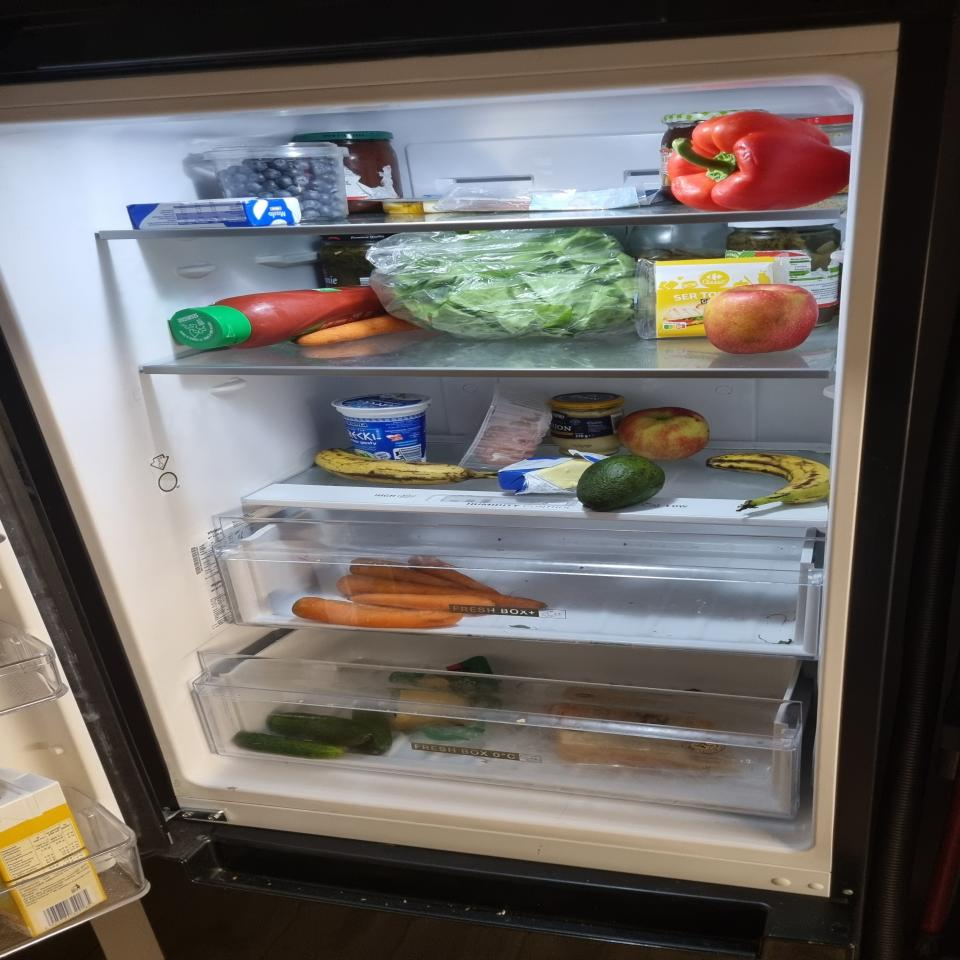Aguacate: (576, 456, 666, 508)
Carne pollo: (461, 385, 552, 471)
Leche: (1, 767, 107, 937)
Lechuga/Endivia: (368, 230, 637, 339)
Mantequilla: (127, 197, 299, 226), (498, 454, 604, 491)
Manzana: (704, 284, 815, 354), (626, 407, 714, 460)
Pepino: (235, 705, 395, 762)
Plátano: (704, 453, 830, 511), (316, 449, 496, 486)
Queso: (550, 704, 742, 774), (654, 257, 780, 339), (396, 689, 472, 731)
Yogur: (330, 394, 436, 466)
Zanahoria: (294, 556, 547, 630), (297, 314, 423, 346)
bell pepper: (664, 112, 848, 208)
blueberries: (210, 145, 352, 220)
ketchup: (166, 288, 390, 348)
mustard: (550, 394, 628, 454)
